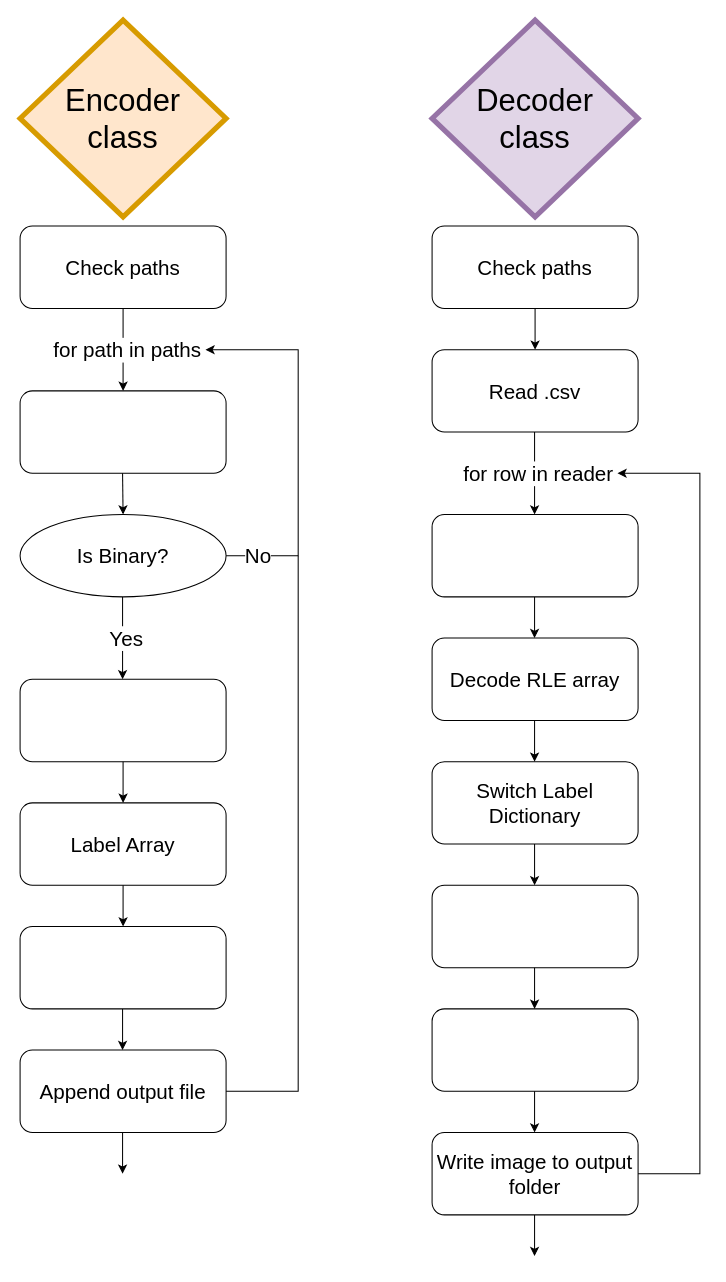
This 726x1282 diagram has some shape labels left out. Here are the shapes that lost their labels. From the top down, the centre of each, then its label:
At point (122, 431): "Read image".
At point (534, 555): "Unpack attributes".
At point (122, 720): "Create Label Dictionary".
At point (534, 926): "Relabel Array".
At point (122, 967): "Encode Array".
At point (534, 1049): "Reshape Array to Image".
